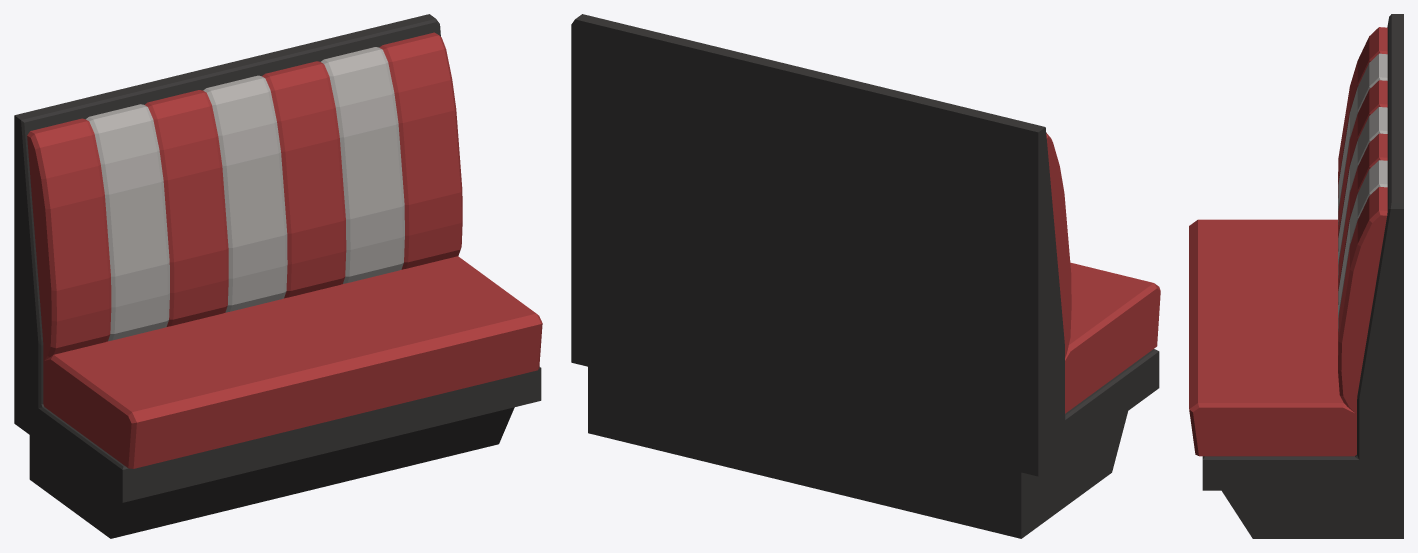
Rendered from SM_Props_Interior_Shop_Restaurant_Booth_Seat_01_01.fbx.
3 views of the same model, side by side, from view 1: azimuth 30°, elevation 25°; view 2: azimuth 150°, elevation 25°; view 3: azimuth 270°, elevation 25° (orthographic). The views are drawn at different scales.
Parts seen in each view (by area): view 1: SM_Props_Interior_Shop_Restaurant_Booth_Seat_01_01; view 2: SM_Props_Interior_Shop_Restaurant_Booth_Seat_01_01; view 3: SM_Props_Interior_Shop_Restaurant_Booth_Seat_01_01.
Boxes of the visible parts, box(x1,y1,x2,y2) form: SM_Props_Interior_Shop_Restaurant_Booth_Seat_01_01: box(14, 14, 542, 538); SM_Props_Interior_Shop_Restaurant_Booth_Seat_01_01: box(571, 14, 1160, 538); SM_Props_Interior_Shop_Restaurant_Booth_Seat_01_01: box(1189, 14, 1403, 538).
Size of the model in its own units: 125 by 105 by 59.73.
